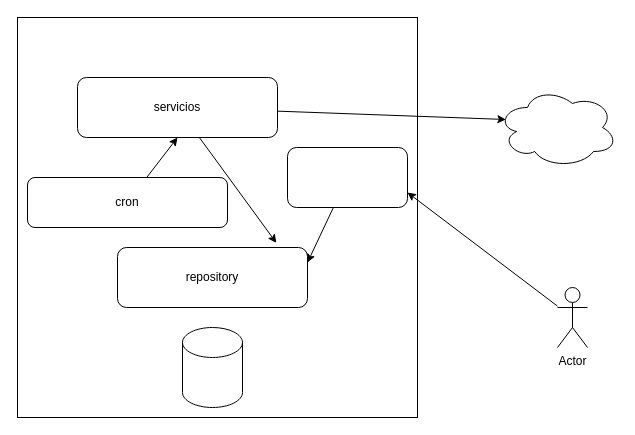
Some shapes in this 635 by 435 pixel diagram are drawn without their labels. Each missing label, with the box of its shape:
api: (286, 146, 408, 208)
clima: (496, 86, 618, 168)
